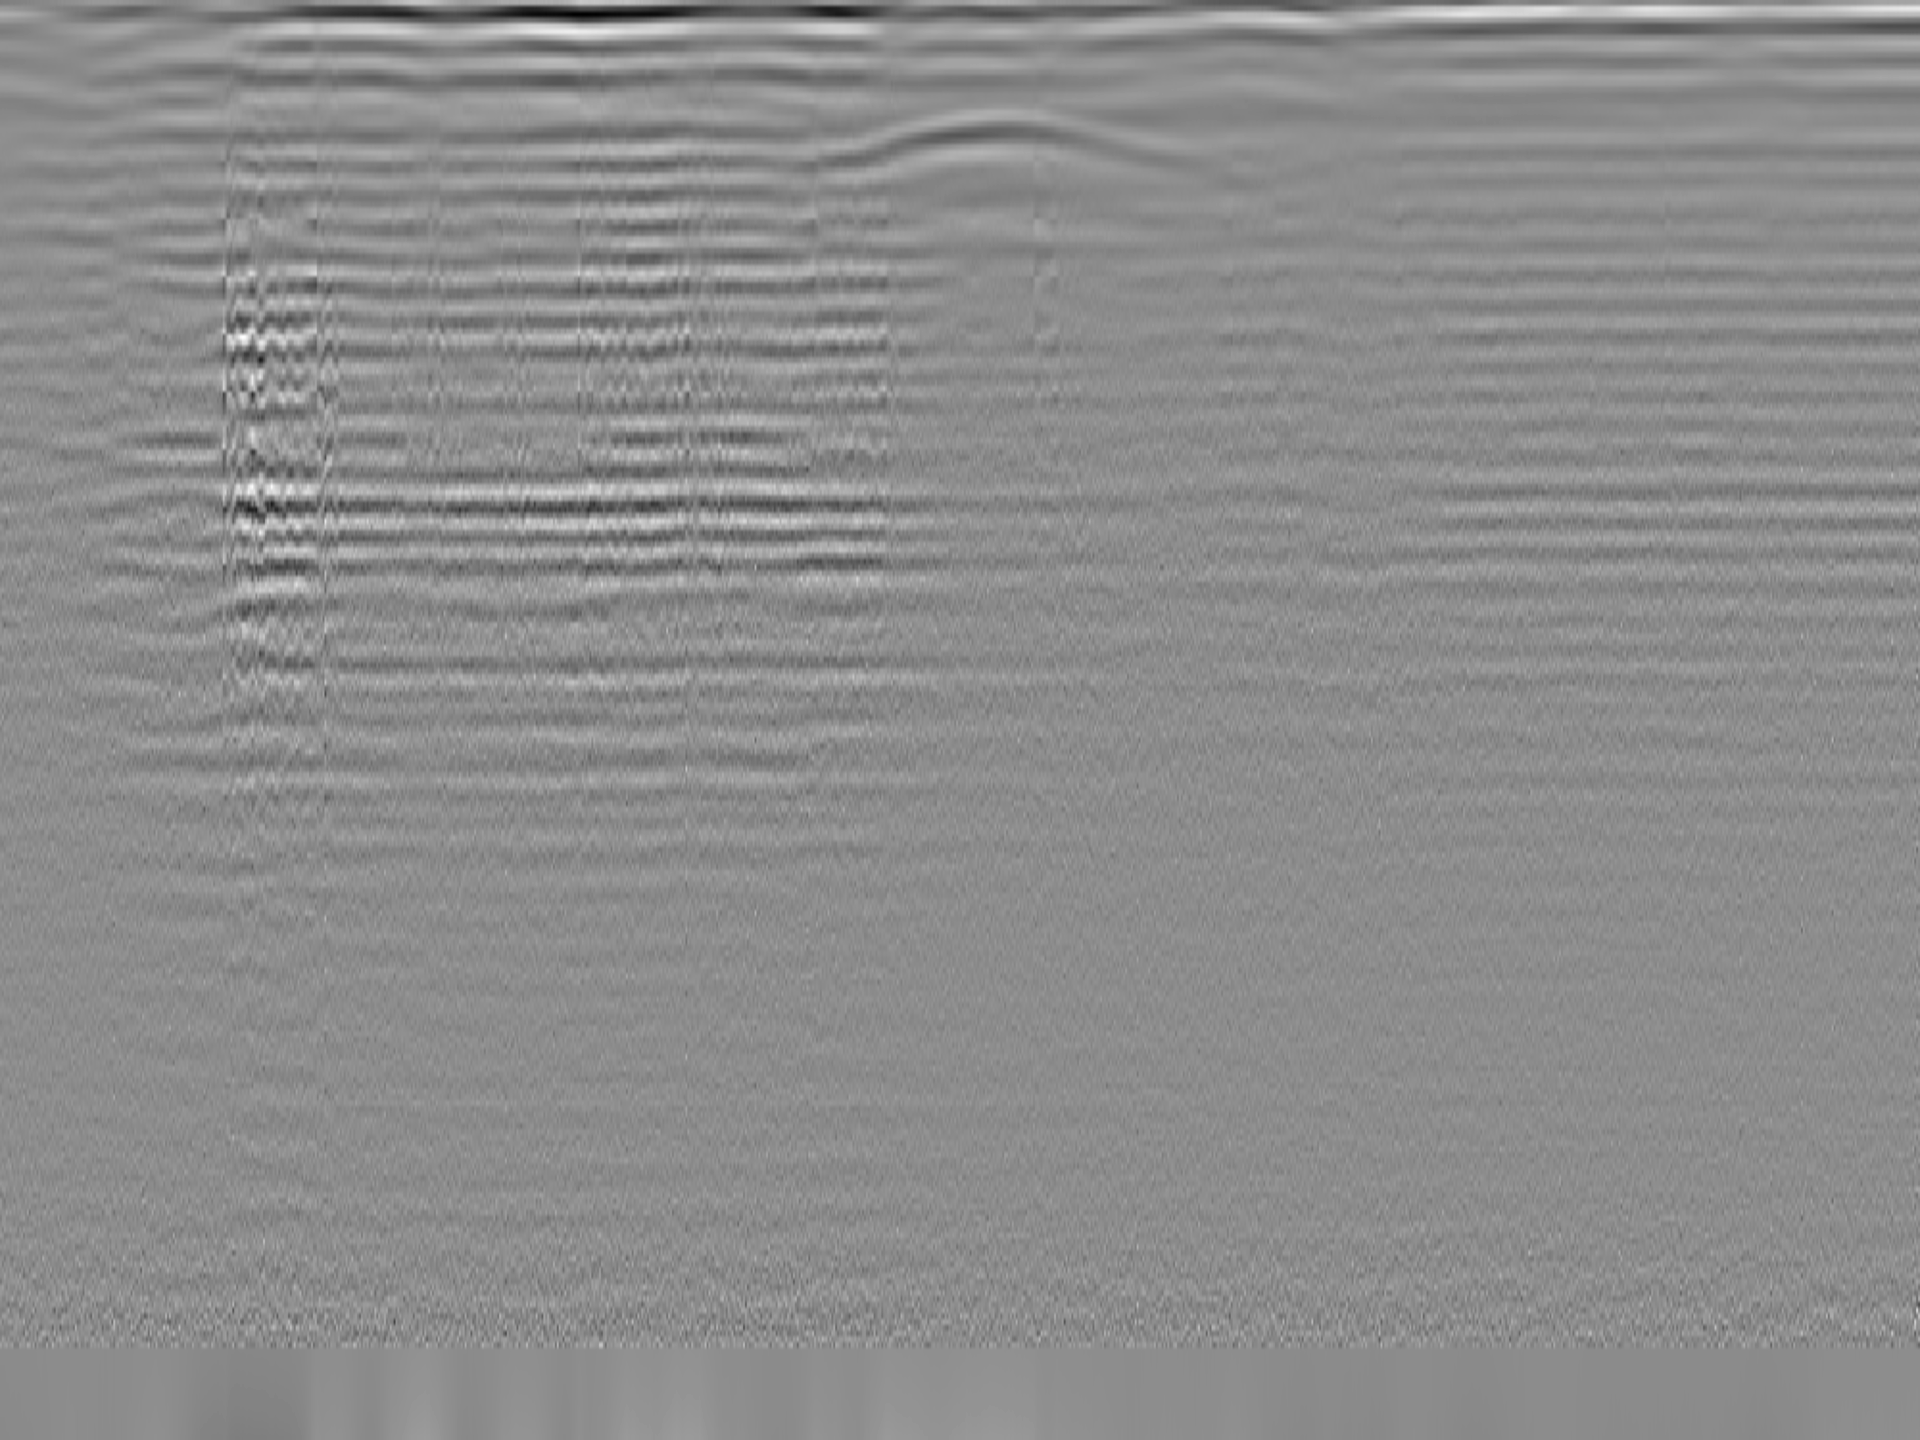Tunnel: (819, 109, 1235, 178)
